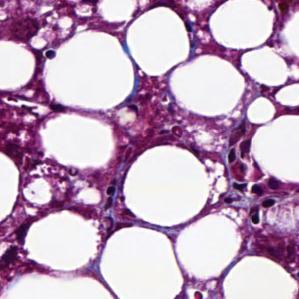inflammation: (231, 177, 280, 228), (218, 121, 256, 167)
